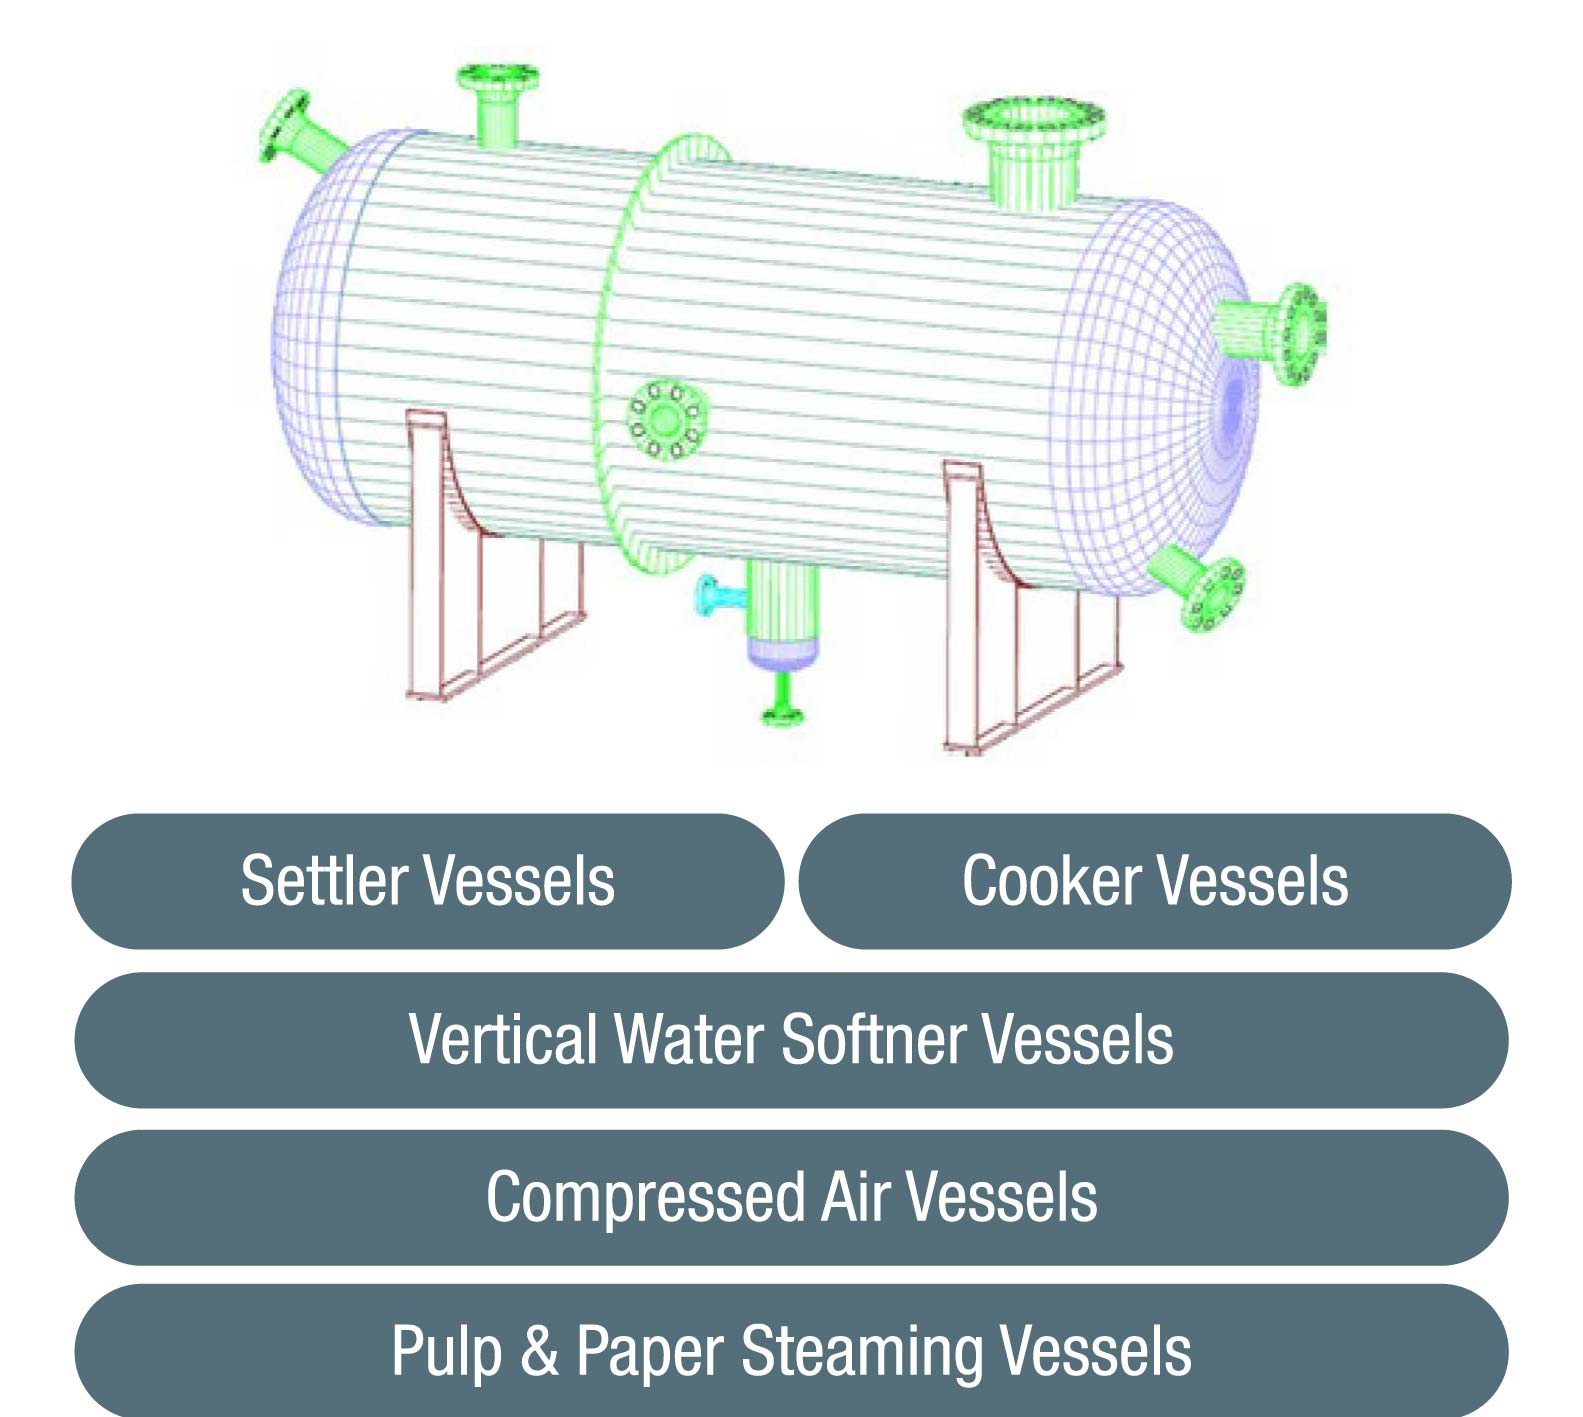nozzle: (932, 42, 1130, 212), (1192, 269, 1339, 417), (1142, 491, 1271, 651), (202, 88, 360, 191), (441, 51, 558, 160)
